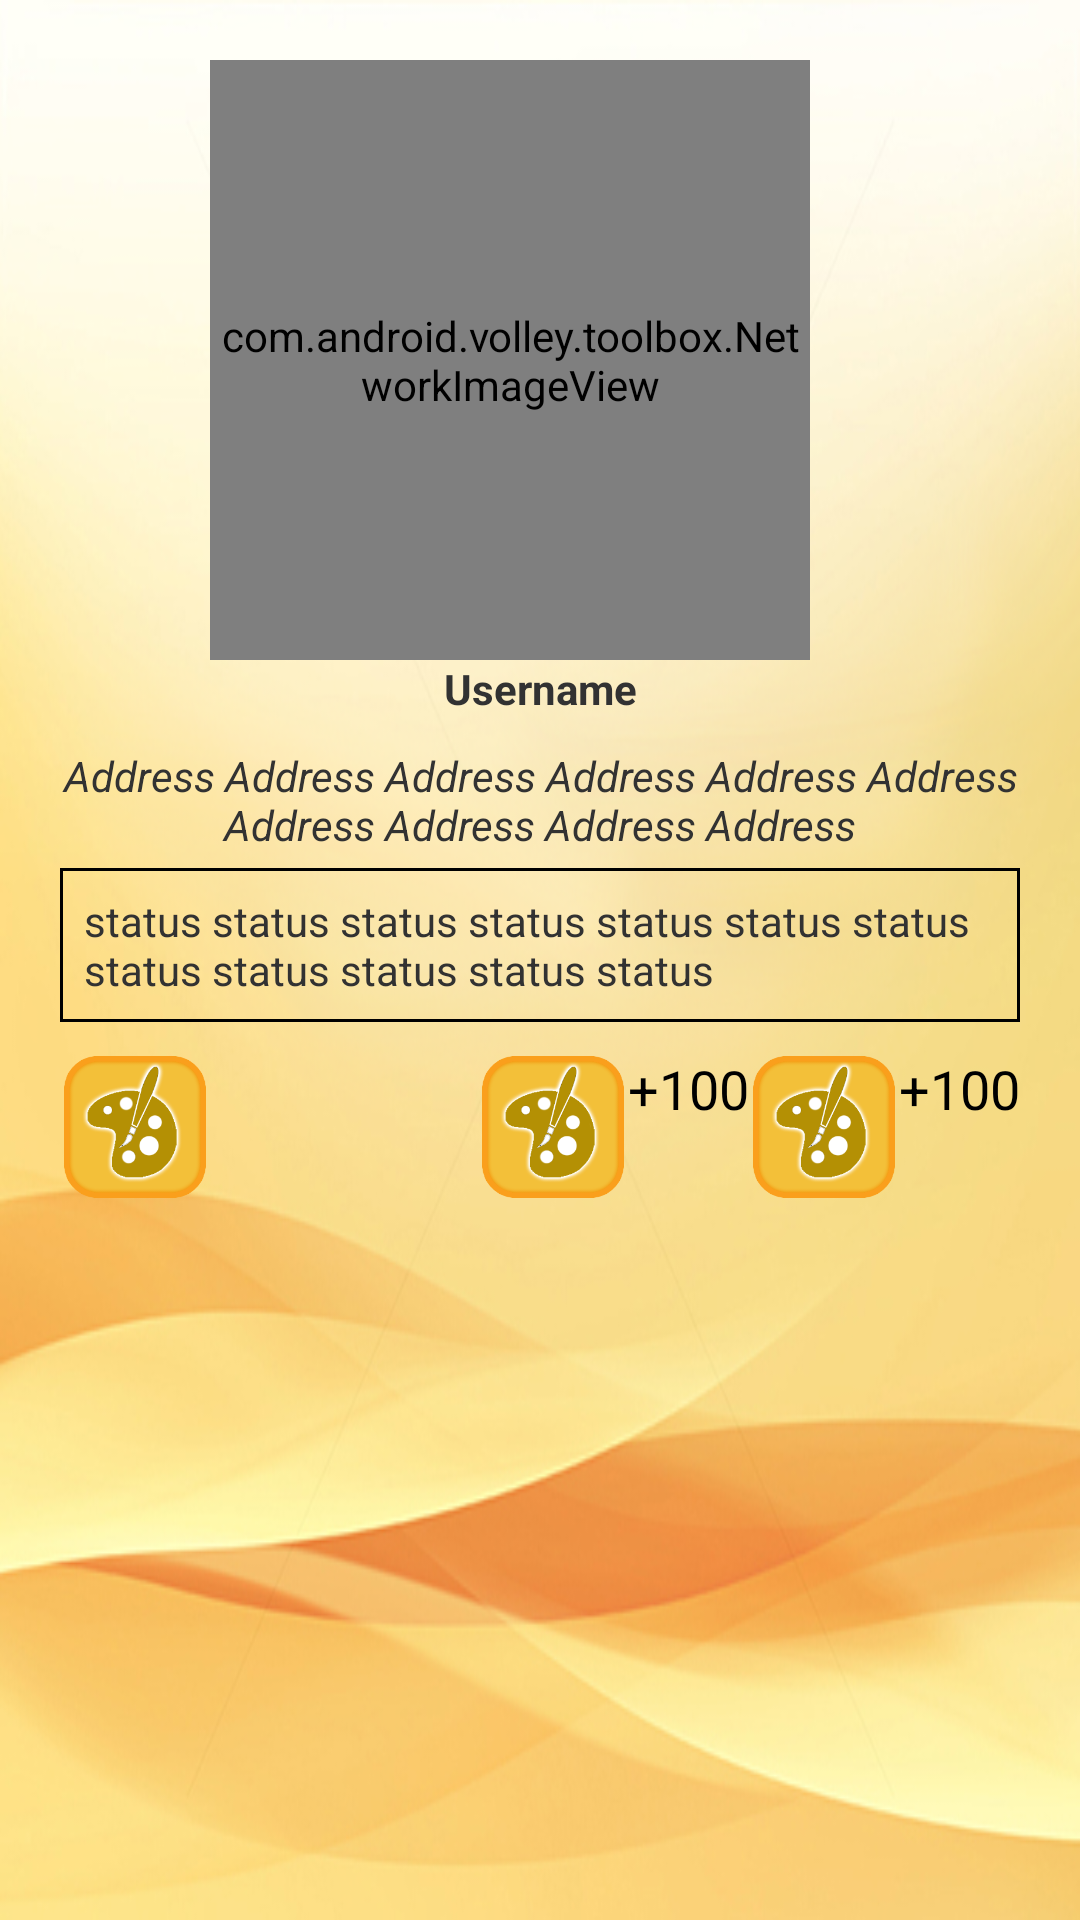

Locate icon controls on the screen. Image size 1080 x 1920, boxes as (x1, y1, x2, y2).
category art: (60, 1056, 210, 1202), (482, 1056, 624, 1198), (753, 1056, 895, 1198)
